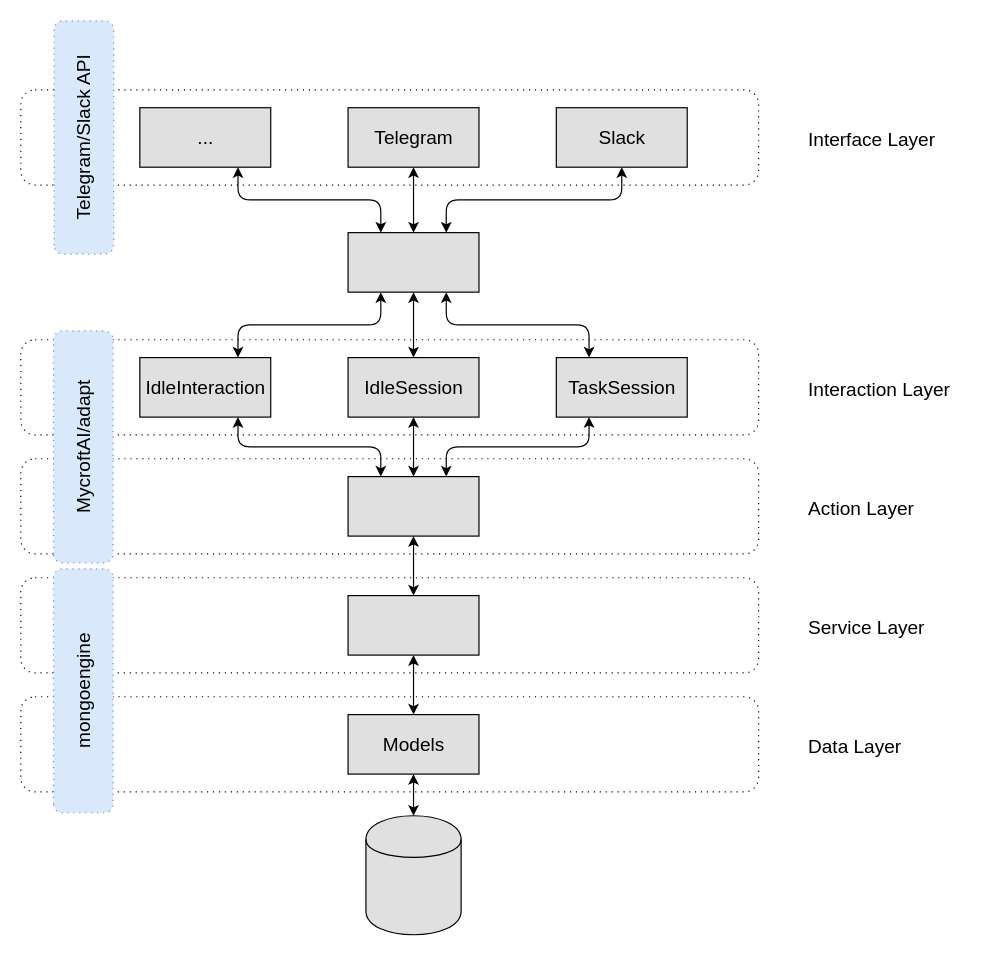
Image size: 982x956. Some labels were removed from this diagram. The shapes that lost their labels are listed below. From the top down, each one's centre as x and y in pixels, then its label:
the point at 413,261: Redirector
the point at 413,505: Actions
the point at 413,624: Services
the point at 413,875: MongoDb
